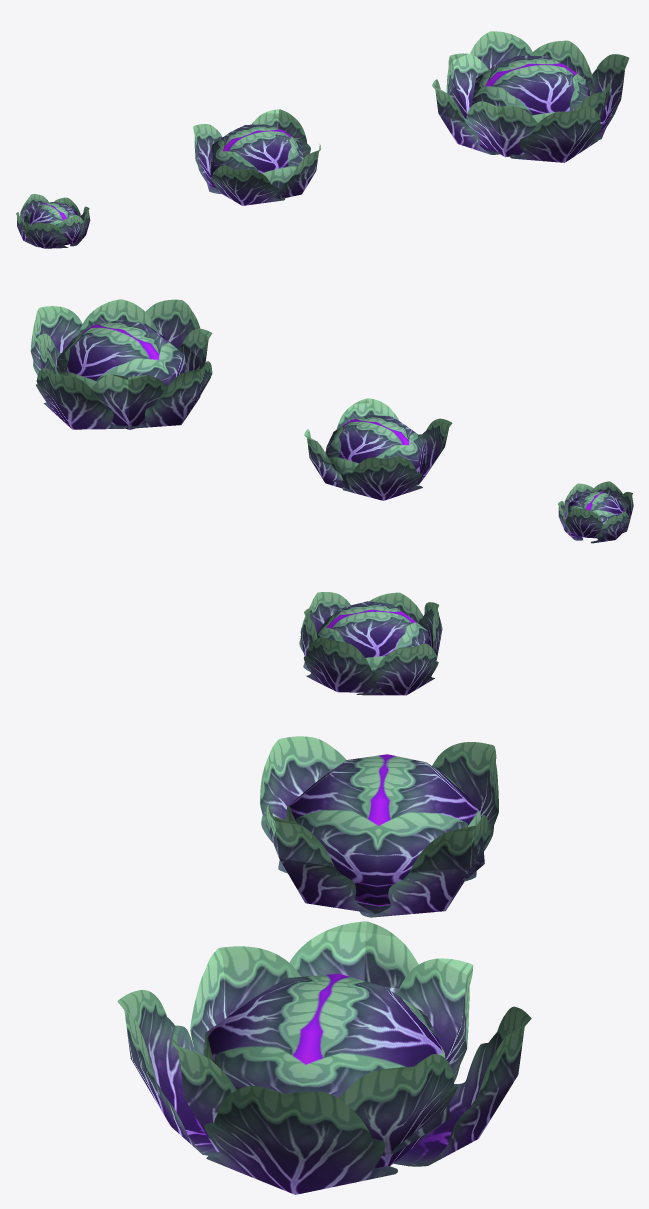
Rendered from Cabbage_Violet_Lv.FBX.
3 views of the same model, one above another, from view 1: azimuth 30°, elevation 25°; view 2: azimuth 150°, elevation 25°; view 3: azimuth 270°, elevation 25° (orthographic). The views are drawn at different scales.
Parts seen in each view (by area): view 1: Cabbage_Violet_Lv3, Cabbage_Violet_Lv2, Cabbage_Violet_Lv1; view 2: Cabbage_Violet_Lv3, Cabbage_Violet_Lv2, Cabbage_Violet_Lv1; view 3: Cabbage_Violet_Lv3, Cabbage_Violet_Lv2, Cabbage_Violet_Lv1.
Boxes of the visible parts, left/top/right/bottom form: Cabbage_Violet_Lv3: left=432, top=31, right=629, bottom=162; Cabbage_Violet_Lv2: left=193, top=109, right=320, bottom=205; Cabbage_Violet_Lv1: left=16, top=194, right=90, bottom=248; Cabbage_Violet_Lv3: left=30, top=299, right=212, bottom=429; Cabbage_Violet_Lv2: left=304, top=398, right=452, bottom=500; Cabbage_Violet_Lv1: left=558, top=481, right=633, bottom=543; Cabbage_Violet_Lv3: left=117, top=921, right=531, bottom=1194; Cabbage_Violet_Lv2: left=260, top=736, right=498, bottom=917; Cabbage_Violet_Lv1: left=299, top=592, right=442, bottom=695.
Size of the model in its own units: 217 by 28.08 by 69.29.
